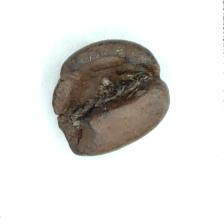NG: (71, 58, 151, 122)
